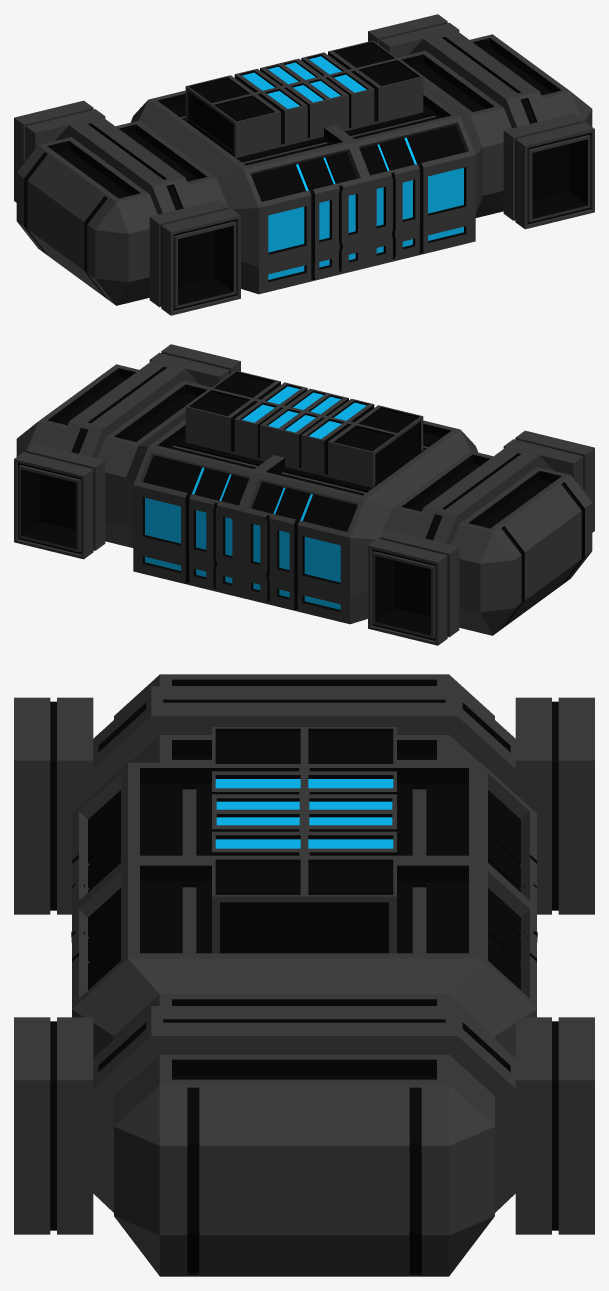
File: Barracks Sci-Fi.fbx
3 renders of one model, top to bottom at view 1: azimuth 30°, elevation 25°; view 2: azimuth 150°, elevation 25°; view 3: azimuth 270°, elevation 25°, orthographic. The views are drawn at different scales.
Visible parts, largest first — view 1: Cube, Cube.002; view 2: Cube, Cube.002; view 3: Cube, Cube.002.
Part boxes in pixels (left/top/right/bottom): Cube: left=14, top=14, right=594, bottom=315; Cube.002: left=242, top=56, right=463, bottom=279; Cube: left=14, top=344, right=594, bottom=645; Cube.002: left=145, top=386, right=366, bottom=609; Cube: left=14, top=674, right=594, bottom=1276; Cube.002: left=215, top=779, right=393, bottom=848.
Bounding box in the file's own units: 5.58 × 1.51 × 3.05.
